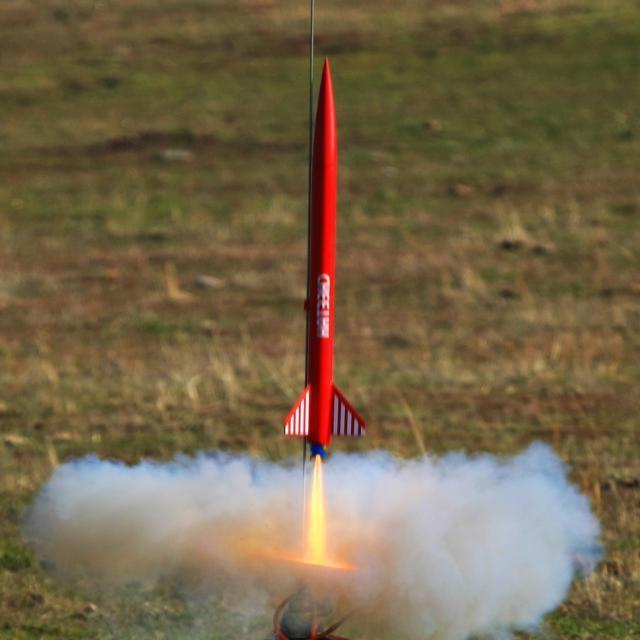Missile: (275, 65, 379, 472)
